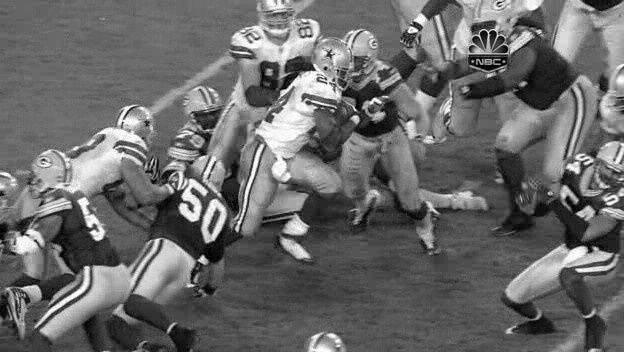person: (320, 40, 355, 84), (319, 40, 354, 84), (321, 40, 356, 84), (320, 39, 355, 83), (320, 41, 355, 85)
target_negative: (31, 154, 261, 337), (32, 294, 407, 323), (225, 183, 235, 262), (64, 330, 119, 342), (577, 319, 623, 333), (256, 341, 363, 347)
